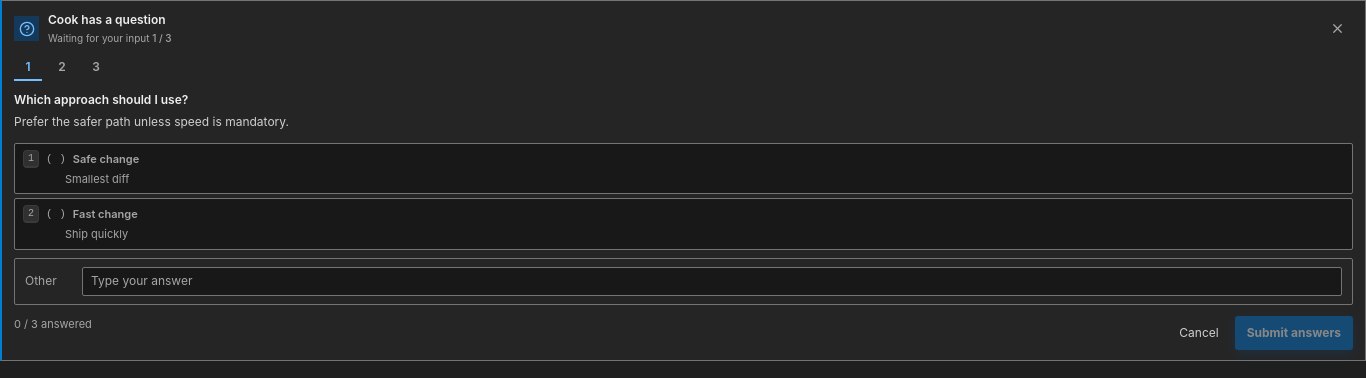
it: question card tabs › renders a 1 / 3 counter and shows only the active question label
Expected: the text with test id "question-tab-counter" reads "1 / 3", [150,32,172,44]
Expected: the element with test id "question-label" reads "Which approach should I use?", [14,92,188,107]
Click the tab with test id "question-tab-2". click: point(62, 68)
box: [48,55,76,81]
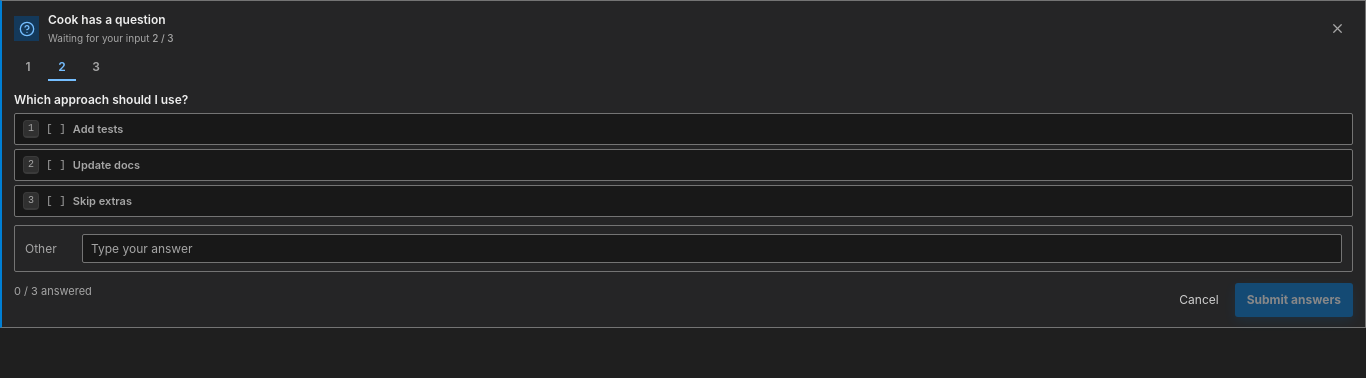
Expected: the text with test id "question-tab-counter" reads "2 / 3", [150,32,174,44]
Expected: the element with test id "question-panel-2" is shown, [14,91,1353,274]
Expected: the button with test id "question-option-1-tests" is shown, [14,113,1353,145]
